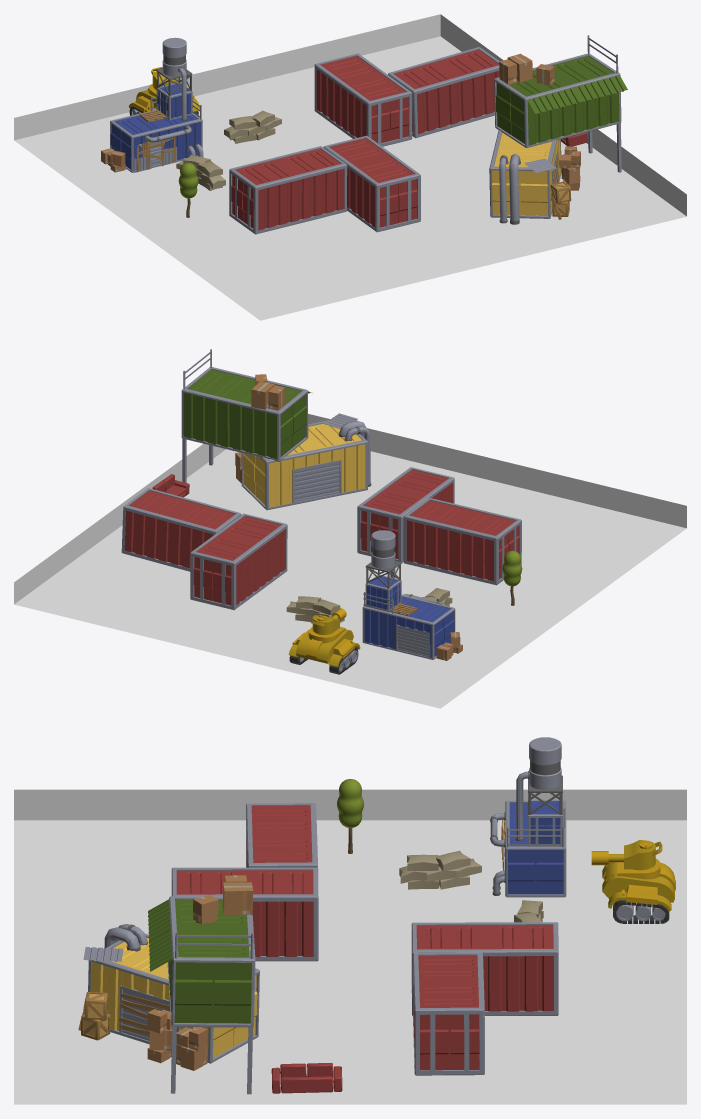
Rendered from scene_shoot_1.glb.
3 views of the same model, one above another, from view 1: azimuth 30°, elevation 25°; view 2: azimuth 150°, elevation 25°; view 3: azimuth 270°, elevation 25° (orthographic). The views are drawn at different scales.
Parts seen in each view (by area): view 1: 平面, Structure_2, Container_Long.002, Structure_3, Container_Long, Container_Long.001, Container_Long.003, SackTrench_Small, SackTrench_Small.001, Tank, Tree_2; view 2: 平面, Structure_2, Container_Long.002, Structure_3, Container_Long, Container_Long.001, Container_Long.003, Tank, SackTrench_Small, Tree_2; view 3: 平面, Structure_2, Container_Long, Structure_3, Container_Long.001, Container_Long.003, Tank, Container_Long.002, SackTrench_Small.001, Sofa, Tree_2, SackTrench_Small.
Part boxes in pixels (bbox=[...]): 平面: bbox=[14, 14, 686, 320]; Structure_2: bbox=[489, 35, 627, 224]; Container_Long.002: bbox=[229, 146, 347, 234]; Structure_3: bbox=[101, 37, 203, 172]; Container_Long: bbox=[314, 53, 412, 146]; Container_Long.001: bbox=[388, 47, 499, 138]; Container_Long.003: bbox=[323, 135, 420, 232]; SackTrench_Small: bbox=[224, 110, 281, 143]; SackTrench_Small.001: bbox=[176, 154, 225, 190]; Tank: bbox=[128, 67, 199, 115]; Tree_2: bbox=[178, 162, 198, 217]; 平面: bbox=[14, 414, 686, 708]; Structure_2: bbox=[181, 349, 371, 510]; Container_Long.002: bbox=[403, 498, 521, 585]; Structure_3: bbox=[362, 530, 462, 660]; Container_Long: bbox=[190, 513, 287, 610]; Container_Long.001: bbox=[121, 488, 241, 571]; Container_Long.003: bbox=[357, 467, 454, 562]; Tank: bbox=[288, 608, 360, 674]; SackTrench_Small: bbox=[286, 596, 344, 623]; Tree_2: bbox=[502, 550, 522, 605]; 平面: bbox=[14, 789, 686, 1104]; Structure_2: bbox=[78, 875, 259, 1094]; Container_Long: bbox=[411, 922, 558, 1015]; Structure_3: bbox=[490, 737, 566, 897]; Container_Long.001: bbox=[412, 952, 484, 1075]; Container_Long.003: bbox=[171, 867, 318, 961]; Tank: bbox=[591, 840, 675, 923]; Container_Long.002: bbox=[246, 803, 317, 867]; SackTrench_Small.001: bbox=[399, 850, 481, 889]; Sofa: bbox=[271, 1063, 342, 1093]; Tree_2: bbox=[337, 779, 363, 853]; SackTrench_Small: bbox=[514, 900, 543, 922].
Size of the model in its own units: 20 by 5.41 by 20.
